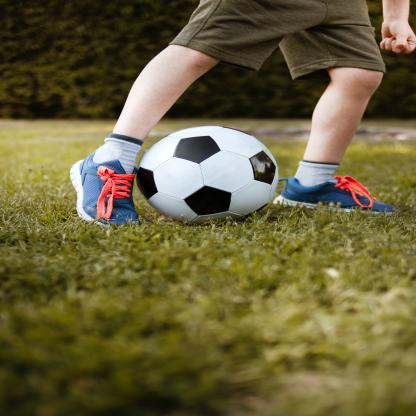ball: (134, 125, 281, 225)
